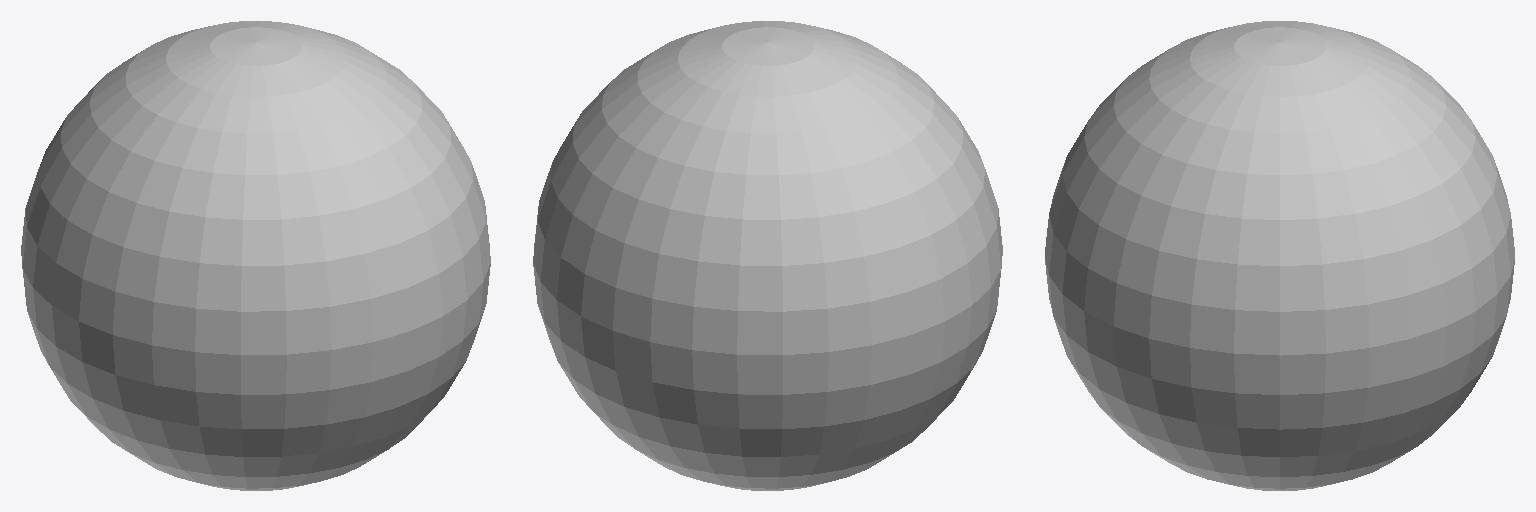
The model's file is player.obj.
The picture shows the model from 3 angles: view 1: azimuth 30°, elevation 25°; view 2: azimuth 150°, elevation 25°; view 3: azimuth 270°, elevation 25°; orthographic projection.
Parts seen in each view (by area): view 1: 球; view 2: 球; view 3: 球.
Part boxes in pixels (bbox=[...]): 球: bbox=[21, 21, 490, 490]; 球: bbox=[533, 21, 1002, 490]; 球: bbox=[1045, 21, 1514, 490].
Bounding box in the file's own units: 2 × 2 × 2.